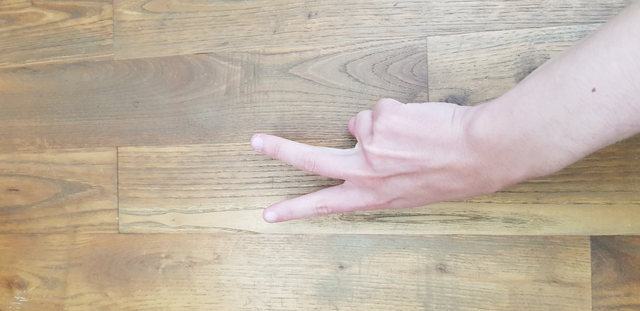Scissors: (231, 76, 529, 240)
